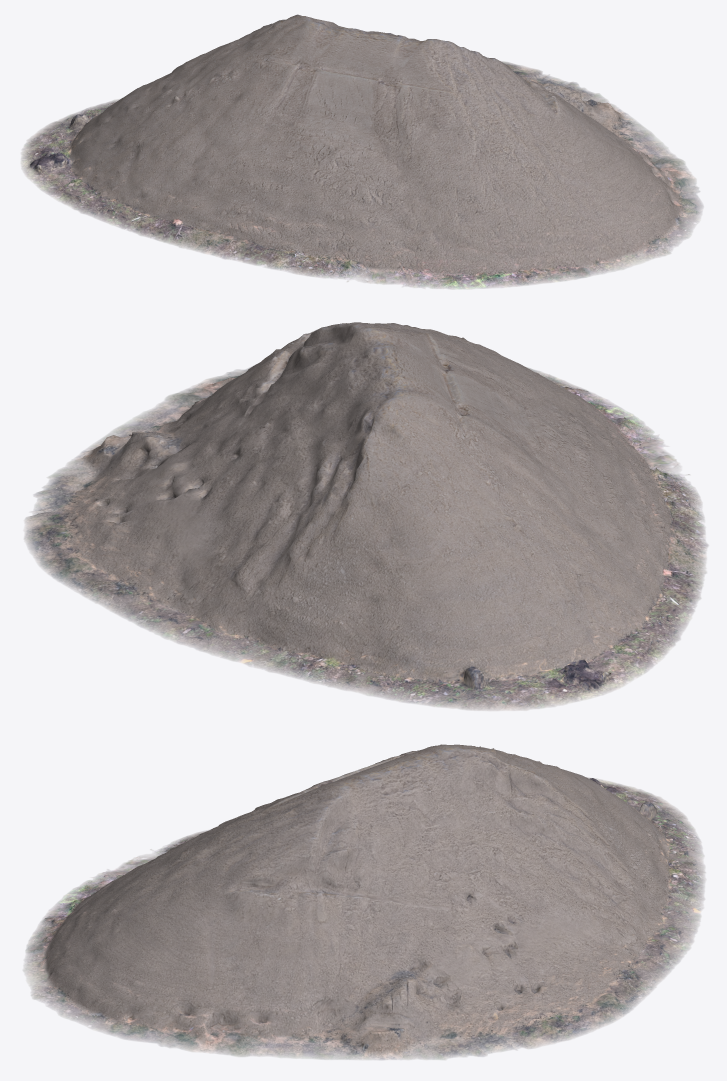
Rendered from a_pile_of_sand.glb.
3 renders of one model, top to bottom at view 1: azimuth 30°, elevation 25°; view 2: azimuth 150°, elevation 25°; view 3: azimuth 270°, elevation 25°, orthographic. The views are drawn at different scales.
Parts seen in each view (by area): view 1: hromada_pisek_01_30k; view 2: hromada_pisek_01_30k; view 3: hromada_pisek_01_30k.
Boxes of the visible parts, <box> form: hromada_pisek_01_30k: <box>21,14,703,289</box>; hromada_pisek_01_30k: <box>24,322,708,710</box>; hromada_pisek_01_30k: <box>23,744,705,1059</box>.
Bounding box in the file's own units: 5.13 × 1.27 × 5.15.
1 material, 1 textured.
